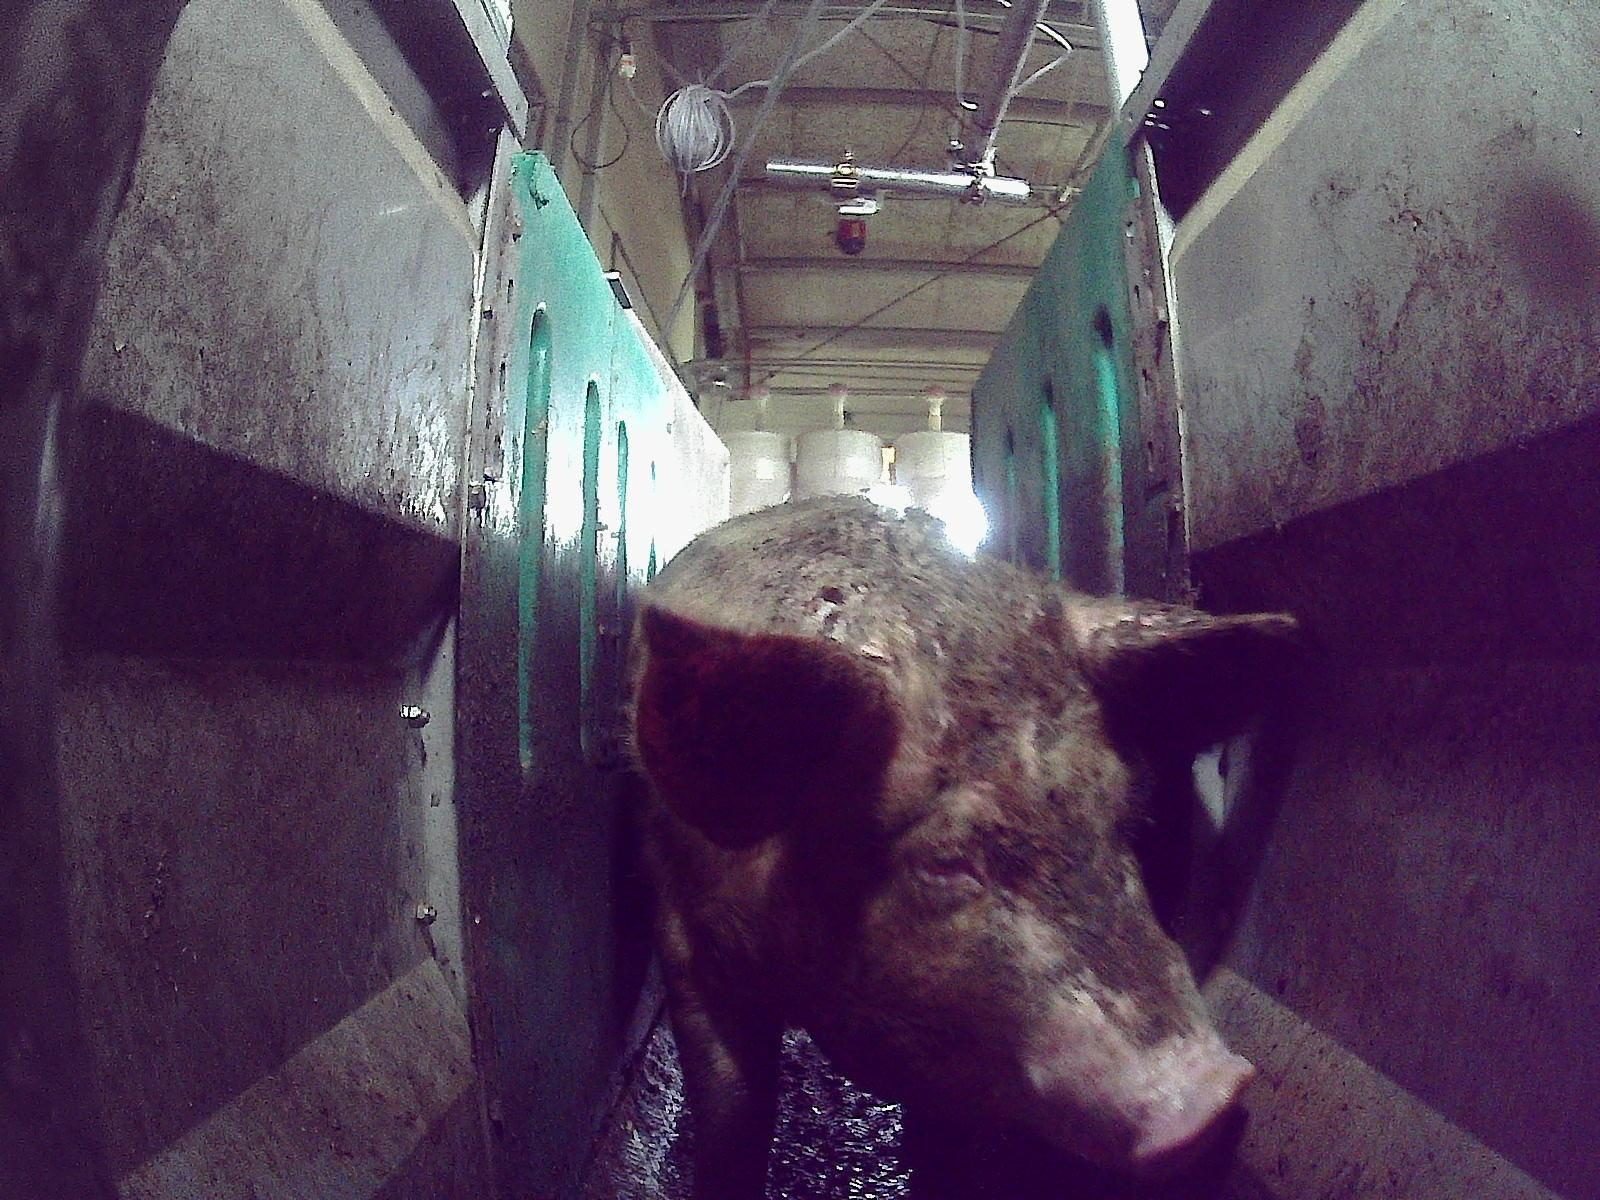Face: (776, 630, 1252, 1180)
